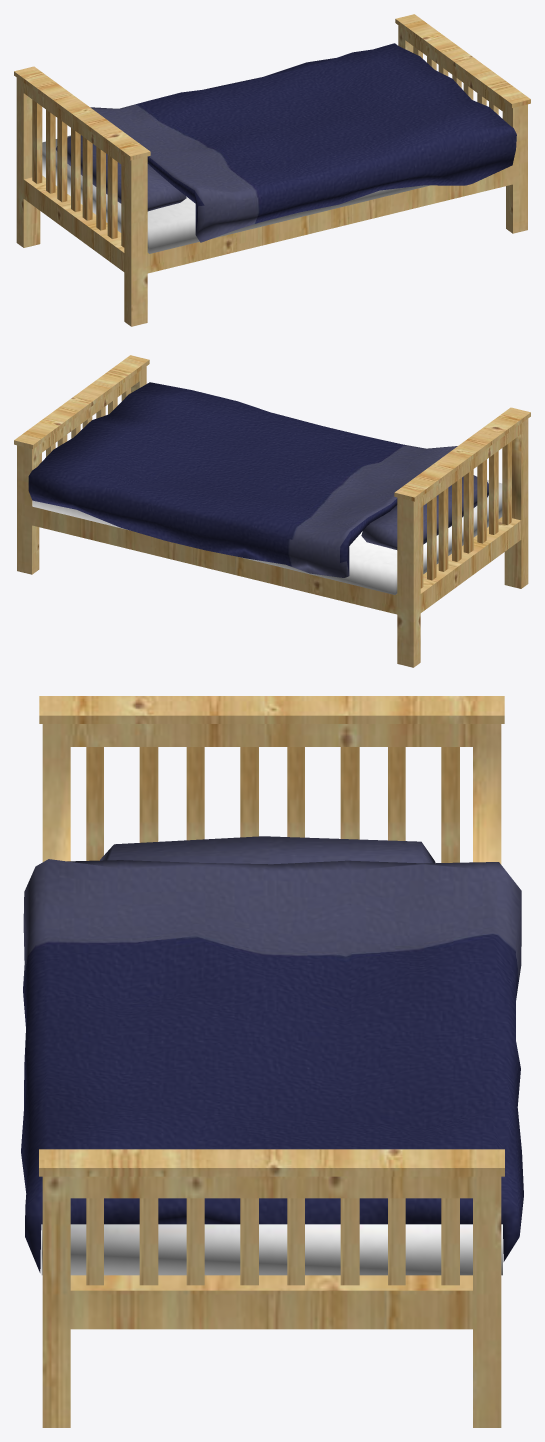
File: bed_single_1.obj
3 views of the same model, one above another, from view 1: azimuth 30°, elevation 25°; view 2: azimuth 150°, elevation 25°; view 3: azimuth 270°, elevation 25° (orthographic). The views are drawn at different scales.
Visible parts, largest first — view 1: bed_single_1; view 2: bed_single_1; view 3: bed_single_1.
Part boxes in pixels (x1=…): bed_single_1: x1=14, y1=14, x2=530, y2=326; bed_single_1: x1=14, y1=355, x2=530, y2=667; bed_single_1: x1=21, y1=696, x2=523, y2=1427.
Bounding box in the file's own units: 19.99 × 8.17 × 10.87.
1 material, 1 textured.
